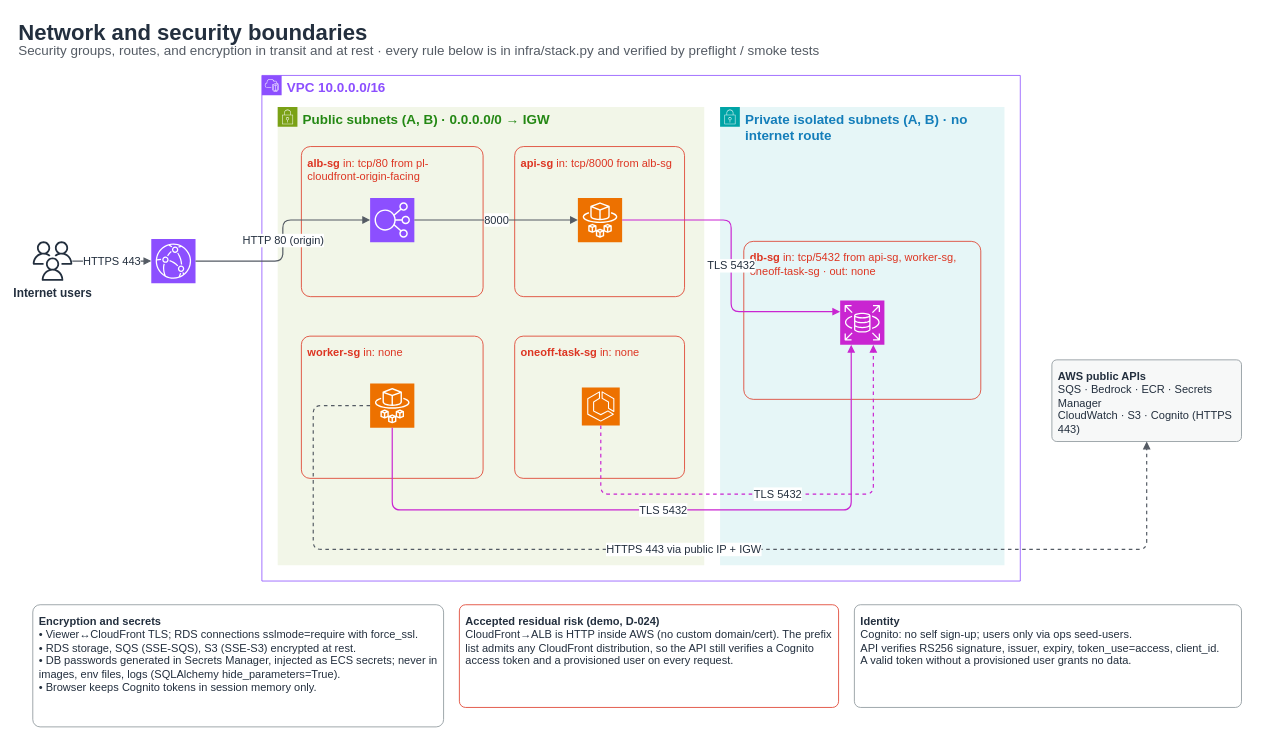
Some shapes in this 1263 by 741 pixel diagram are drawn without their labels. Here are the shapes that lost their labels. From the top down, the centre of each, then its label:
At point 391,219: "ALB listener HTTP:80".
At point 599,219: "API task uvicorn :8000".
At point 173,260: "CloudFront TLS 1.2+ · AWS cert HTTP→HTTPS redirect".
At point 861,322: "RDS PostgreSQL 16 rds.force_ssl=1 storage encrypted (KMS)".
At point 391,405: "Worker task egress only".
At point 600,406: "One-off tasks migrate/import/seed".
